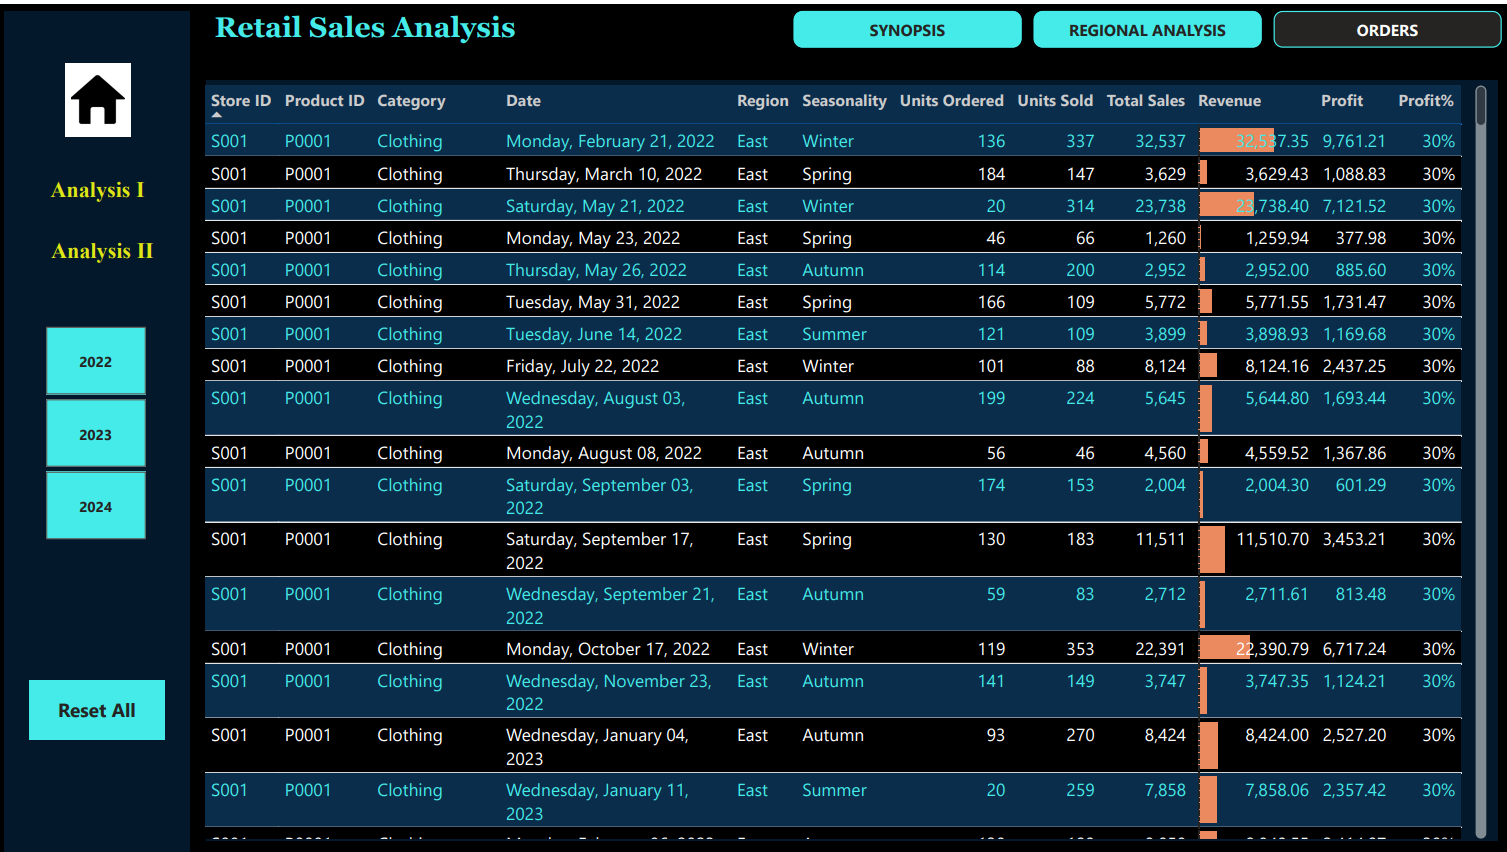

This screenshot's page, from the dashboard's own definition file:
{"tool":"powerbi","page":{"name":"ORDERS","canvas":[1280,720],"ordinal":2},"visuals":[{"type":"textbox","box":[180.1,0,527.1,44.4],"z":0},{"type":"shape","box":[7.5,5,156.2,711.2],"z":1000},{"type":"image","box":[59.3,48.8,54.7,61.6],"z":2000},{"type":"shape","box":[177.9,62.8,1087.2,640.7],"z":3000},{"type":"tableEx","fields":{"Values":["retail_store_inventory.Store ID","retail_store_inventory.Product ID","retail_store_inventory.Category","retail_store_inventory.Date","retail_store_inventory.Region","retail_store_inventory.Seasonality","Sum(retail_store_inventory.Units Ordered)","Sum(retail_store_inventory.Units Sold)","retail_store_inventory.Total Sales","retail_store_inventory.Revenue","retail_store_inventory.Profit","retail_store_inventory.Profit%"]},"box":[171.2,62.5,1088.8,643.8],"z":4000},{"type":"pageNavigator","box":[26.7,180.2,127.9,55.8],"z":5000},{"type":"actionButton","box":[20.9,132.2,130.8,47.3],"z":6000},{"type":"slicer","fields":{"Values":["retail_store_inventory.Year"]},"box":[17.4,264,133.7,193],"z":7000},{"type":"actionButton","box":[29.1,568.6,114,50],"z":8000},{"type":"pageNavigator","box":[672.1,4.7,598.8,31.4],"z":9000}]}

Visuals, with their boxes in screenshot pixels (x1, y1, x2, y2), scaled from the page's 1280x720 canvas onto the 1507x852 screenshot:
textbox: (212, 0, 833, 53)
shape: (9, 6, 193, 848)
image: (70, 58, 134, 131)
shape: (209, 74, 1489, 832)
tableEx - retail_store_inventory.Store ID x retail_store_inventory.Product ID: (202, 74, 1483, 836)
pageNavigator: (31, 213, 182, 279)
actionButton: (25, 156, 179, 212)
slicer - retail_store_inventory.Year: (20, 312, 178, 541)
actionButton: (34, 673, 168, 732)
pageNavigator: (791, 6, 1496, 43)
